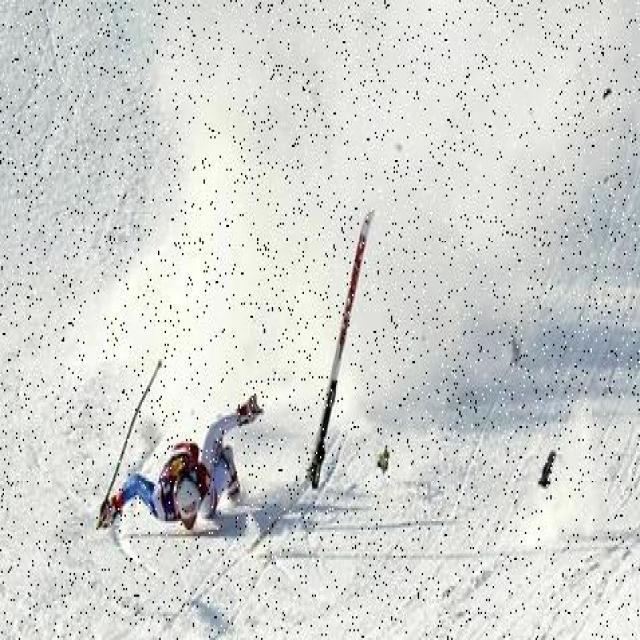fall: (90, 396, 266, 542)
